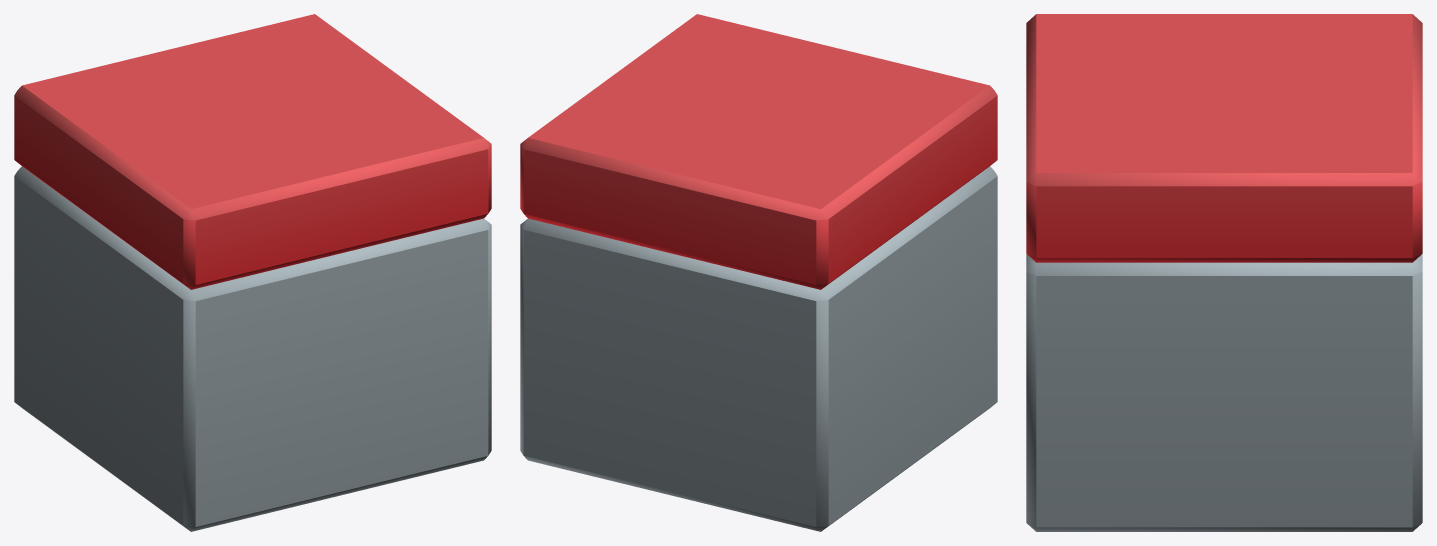
The model's file is platform_2x2x2_red.glb.
3 views of the same model, side by side, from view 1: azimuth 30°, elevation 25°; view 2: azimuth 150°, elevation 25°; view 3: azimuth 270°, elevation 25° (orthographic). The views are drawn at different scales.
Visible parts, largest first — view 1: platform_2x2x2_red; view 2: platform_2x2x2_red; view 3: platform_2x2x2_red.
Boxes of the visible parts, bbox=[...] form: platform_2x2x2_red: bbox=[14, 14, 491, 531]; platform_2x2x2_red: bbox=[520, 14, 997, 531]; platform_2x2x2_red: bbox=[1026, 14, 1422, 531].
Size of the model in its own units: 2 by 2 by 2.
1 material, 1 textured.
